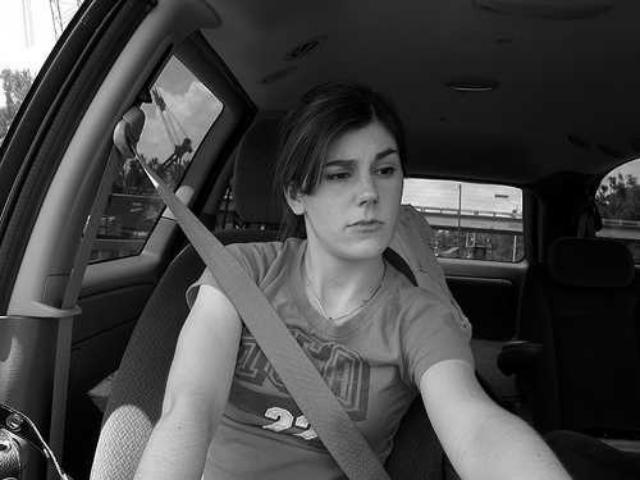SafeDriving: (369, 155, 402, 182), (320, 162, 357, 186)
Seatbelt: (109, 107, 395, 480)
